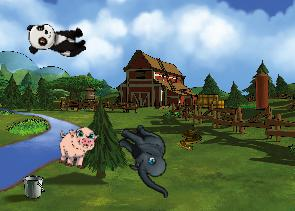elephant: (103, 118, 190, 199)
panda: (26, 22, 87, 57)
pig: (54, 123, 99, 171)
